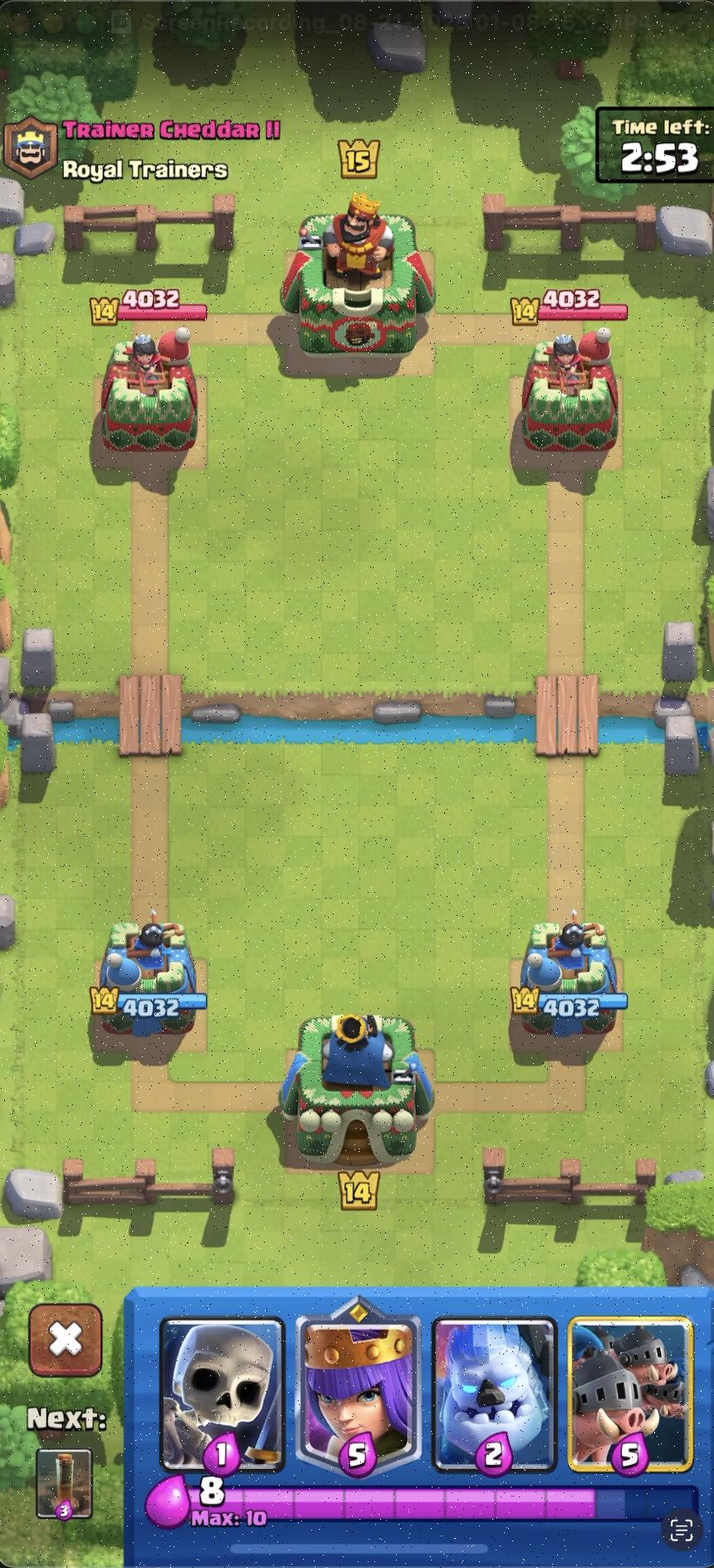card_archerqueen: (292, 1292, 424, 1478)
card_earthquake: (32, 1447, 101, 1522)
card_icegolem: (426, 1312, 563, 1481)
card_royalhogs: (564, 1311, 697, 1473)
card_skeletons: (157, 1314, 286, 1475)
